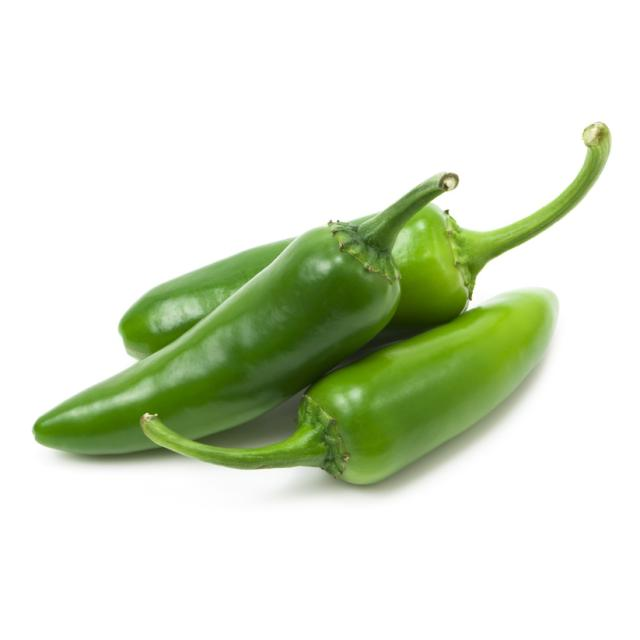Chilli Pepper: (33, 169, 459, 463), (113, 113, 610, 340), (134, 295, 558, 494)
